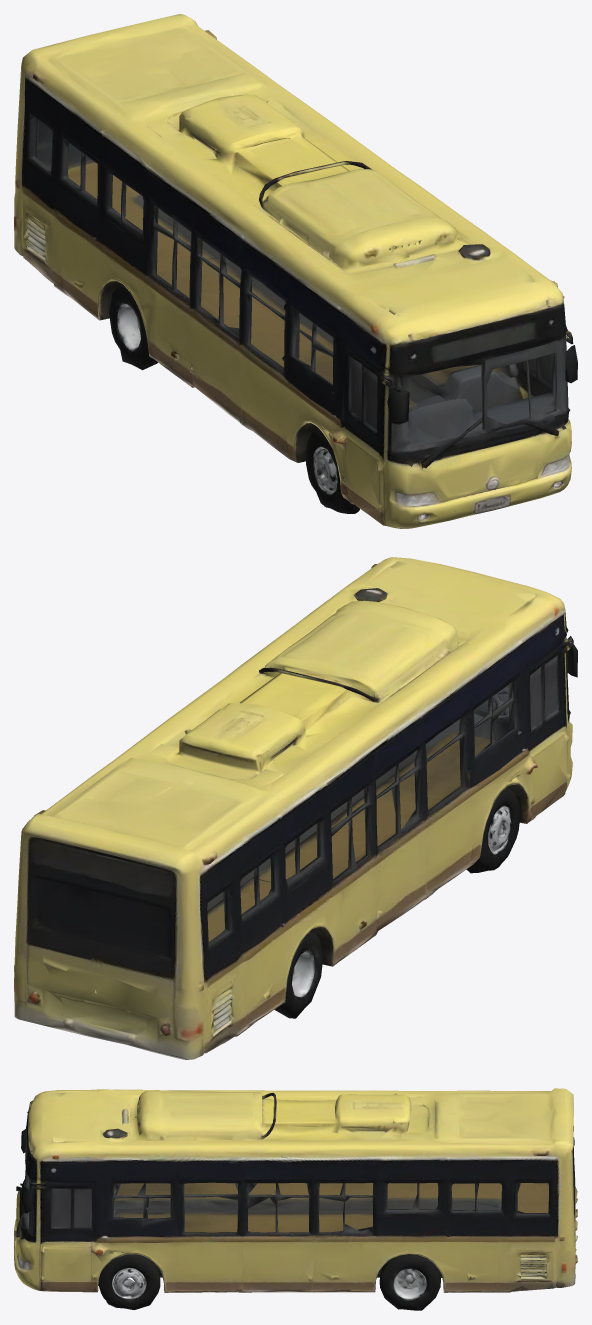
Rendered from bus-architectural.glb.
3 renders of one model, top to bottom at view 1: azimuth 30°, elevation 25°; view 2: azimuth 150°, elevation 25°; view 3: azimuth 270°, elevation 25°, orthographic. The views are drawn at different scales.
Visible parts, largest first — view 1: tripo_node_3187ddbf-d31d-474d-8944-c5b5e8bcef55; view 2: tripo_node_3187ddbf-d31d-474d-8944-c5b5e8bcef55; view 3: tripo_node_3187ddbf-d31d-474d-8944-c5b5e8bcef55.
Part boxes in pixels (box(x1,y1,x2,y2)): tripo_node_3187ddbf-d31d-474d-8944-c5b5e8bcef55: box(14, 14, 577, 528); tripo_node_3187ddbf-d31d-474d-8944-c5b5e8bcef55: box(14, 557, 577, 1059); tripo_node_3187ddbf-d31d-474d-8944-c5b5e8bcef55: box(14, 1088, 577, 1310).
Size of the model in its own units: 0.2922 by 0.3498 by 1.
Materials: 1 (1 with a texture image).
